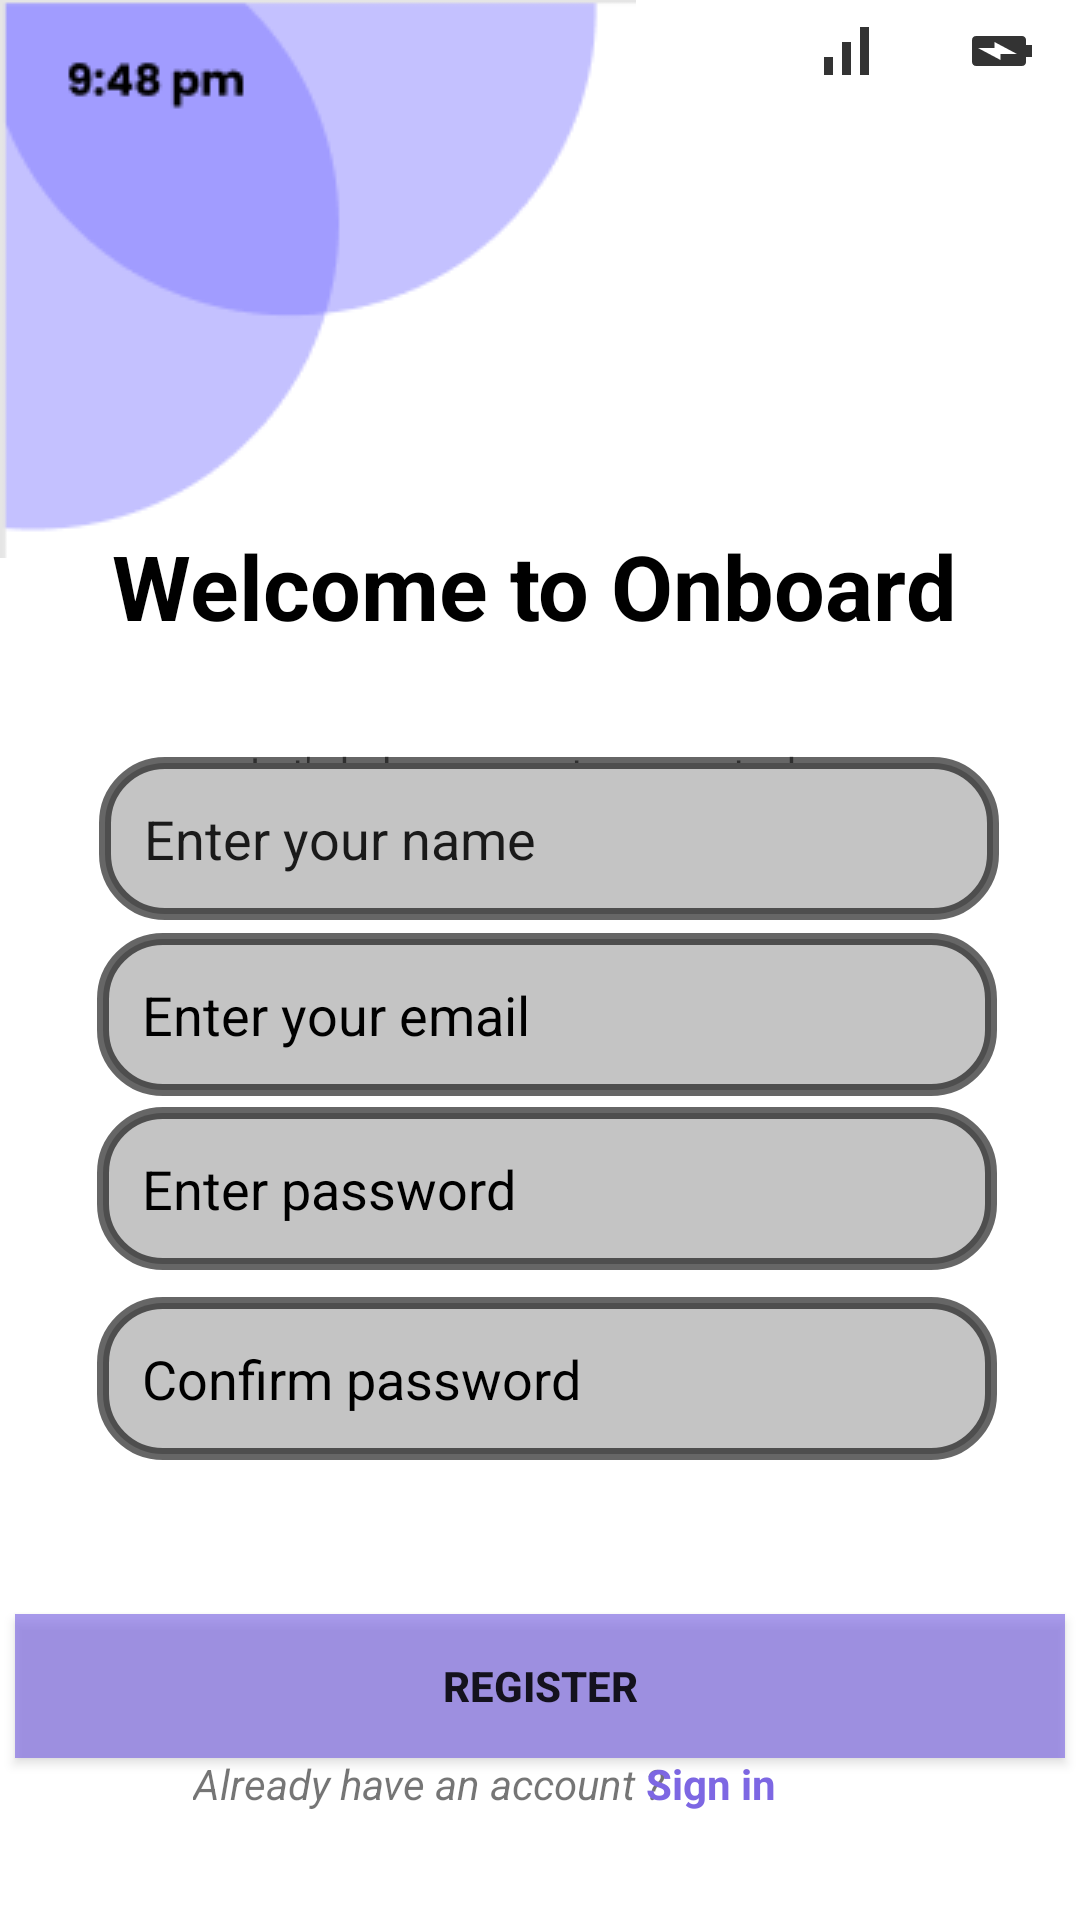

Icons on this 1080x1920 Android screen, each with the point to tap as [x,y]:
signal: [846,51]
